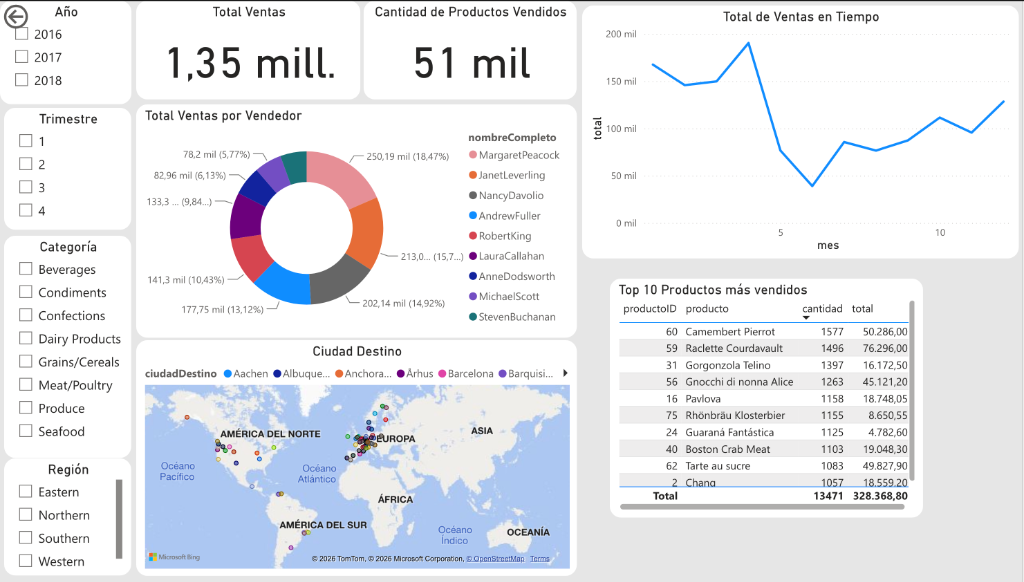

This screenshot's page, from the dashboard's own definition file:
{"tool":"powerbi","page":{"name":"Principal","canvas":[1280,720],"ordinal":0},"visuals":[{"type":"slicer","title":"Año","fields":{"Values":["dimTiempo.anio"]},"box":[0,0,164.3,129.6],"z":0},{"type":"card","title":"Total Ventas","fields":{"Values":["Sum(factTable.total)"]},"box":[170.1,0,280.7,123.7],"z":1000},{"type":"slicer","title":"Trimestre","fields":{"Values":["dimTiempo.trim"]},"box":[5.2,134.2,159,152.5],"z":2000},{"type":"card","title":"Cantidad de Productos Vendidos","fields":{"Values":["Sum(factTable.cantidad)"]},"box":[455.5,0,266.3,123.7],"z":3000},{"type":"tableEx","title":"Top 10 Productos más vendidos","fields":{"Values":["dimProductos.productoID","dimProductos.producto","Sum(factTable.cantidad)","Sum(factTable.total)"]},"box":[763.7,347.5,392,299.1],"z":4000},{"type":"slicer","title":"Categoría","fields":{"Values":["dimCategorias.categoria"]},"box":[5.2,294.5,159,278.1],"z":5000},{"type":"donutChart","title":"Total Ventas por Vendedor","fields":{"Category":["dimEmpleados.nombreCompleto"],"Y":["Sum(factTable.total)"]},"box":[170.1,129.6,551.7,291.9],"z":6000},{"type":"lineChart","title":"Total de Ventas en Tiempo","fields":{"Category":["dimTiempo.mes"],"Y":["Sum(factTable.total)"]},"box":[728.3,5.9,546.4,316.7],"z":7000},{"type":"actionButton","box":[0,0,100,40],"z":8000},{"type":"slicer","title":"Región","fields":{"Values":["dimRegion.region"]},"box":[5.2,573.3,159,146.6],"z":9000},{"type":"map","title":"Ciudad Destino","fields":{"Category":["factTable.ciudadDestino"],"Series":["dimDestino.ciudadDestino"]},"box":[170.1,424.7,551.7,295.1],"z":10000}]}

Visuals, with their boxes in screenshot pixels (x1, y1, x2, y2), scaled from the page's 1280x720 canvas onto the 1024x582 screenshot:
"Año" slicer: x1=0 y1=0 x2=131 y2=105
"Total Ventas" card: x1=136 y1=0 x2=361 y2=100
"Trimestre" slicer: x1=4 y1=108 x2=131 y2=232
"Cantidad de Productos Vendidos" card: x1=364 y1=0 x2=577 y2=100
"Top 10 Productos más vendidos" tableEx: x1=611 y1=281 x2=925 y2=523
"Categoría" slicer: x1=4 y1=238 x2=131 y2=463
"Total Ventas por Vendedor" donutChart: x1=136 y1=105 x2=577 y2=341
"Total de Ventas en Tiempo" lineChart: x1=583 y1=5 x2=1020 y2=261
actionButton: x1=0 y1=0 x2=80 y2=32
"Región" slicer: x1=4 y1=463 x2=131 y2=581
"Ciudad Destino" map: x1=136 y1=343 x2=577 y2=581
